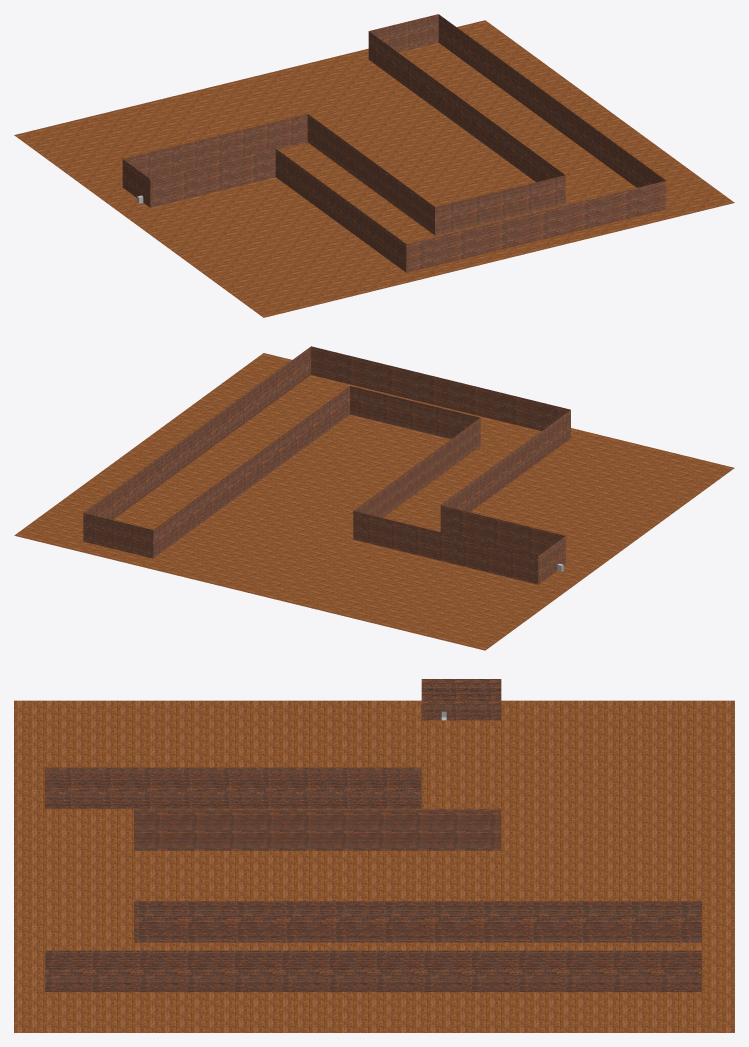
File: backstage_level.fbx
The picture shows the model from 3 angles, top to bottom: view 1: azimuth 30°, elevation 25°; view 2: azimuth 150°, elevation 25°; view 3: azimuth 270°, elevation 25°; orthographic projection. The views are drawn at different scales.
Visible parts, largest first — view 1: Floor, Walls; view 2: Floor, Walls; view 3: Floor, Walls.
Boxes of the visible parts, x1,y1,x2,y2 form: Floor: (14,20,734,317); Walls: (122,14,666,272); Floor: (14,353,734,650); Walls: (83,346,570,584); Floor: (14,700,734,1032); Walls: (44,679,701,991).
Bounding box in the file's own units: 165 × 9.55 × 151.
